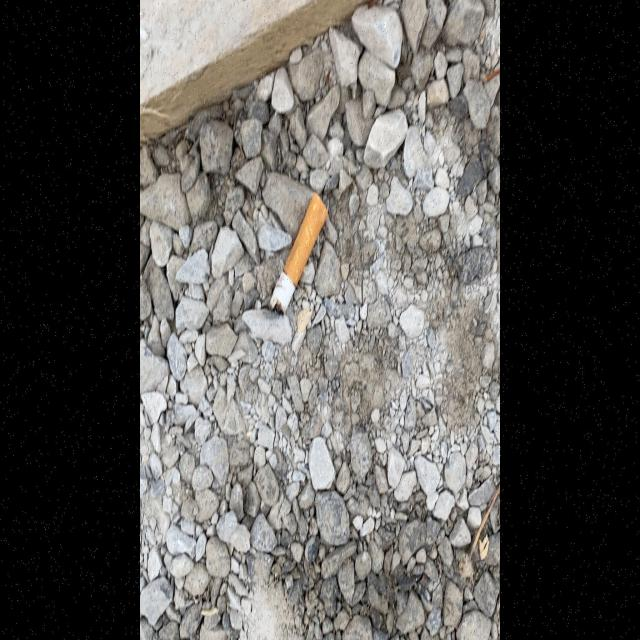other waste: (268, 188, 330, 318)
